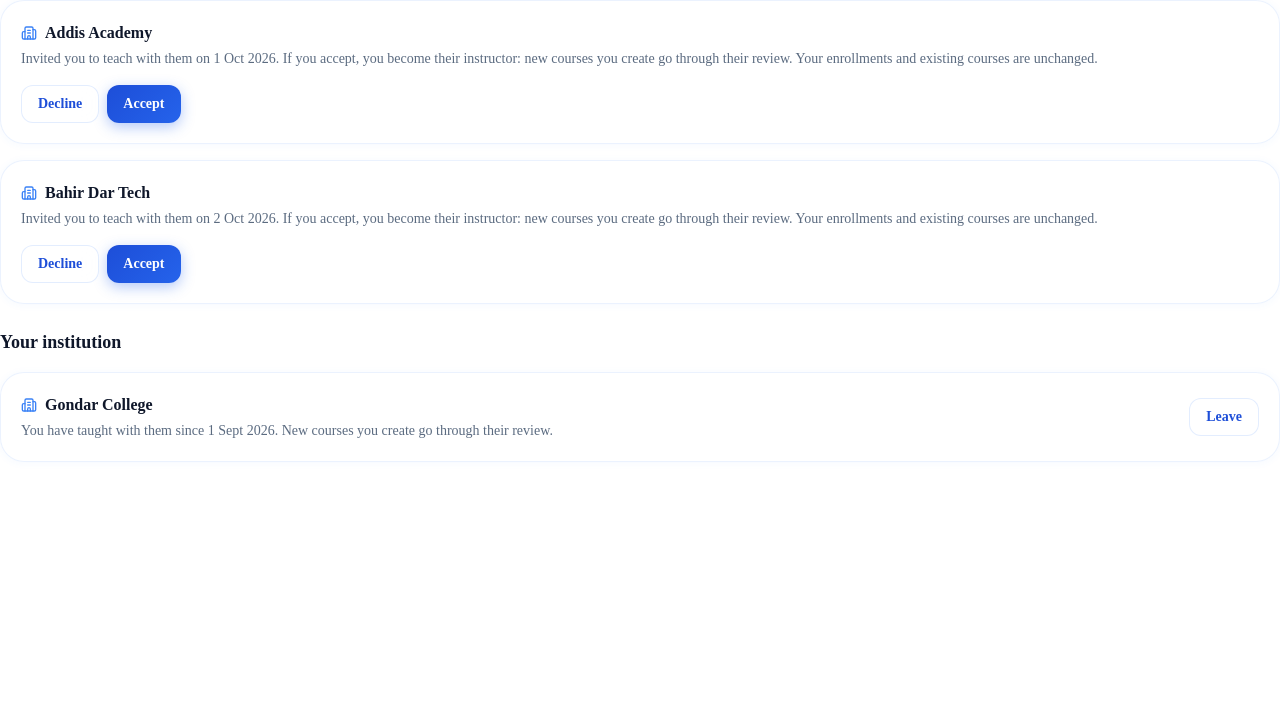
InvitesList › Leave then confirm posts, refreshes the section and says so
This screenshot has width=1280, height=720.
Click the button "Leave": (1224, 417) 1189,398 -> 1259,436
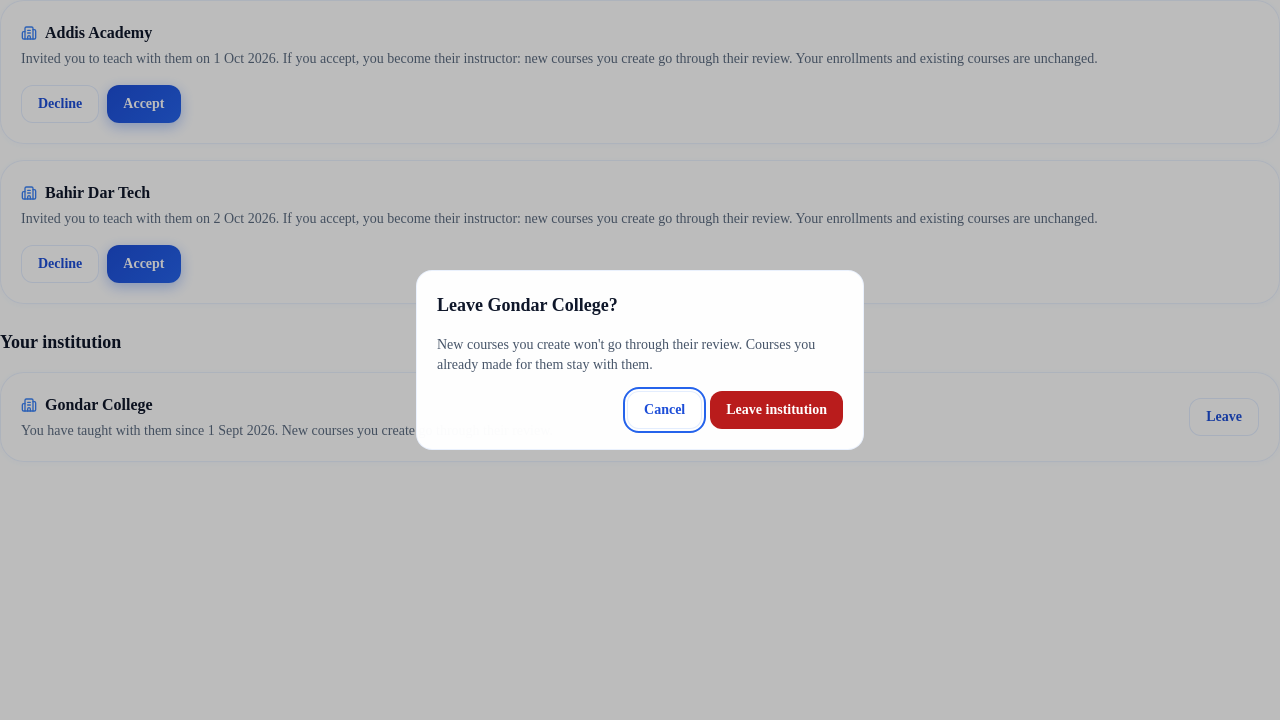
Click the button "Leave institution": (777, 410) 710,391 -> 843,429
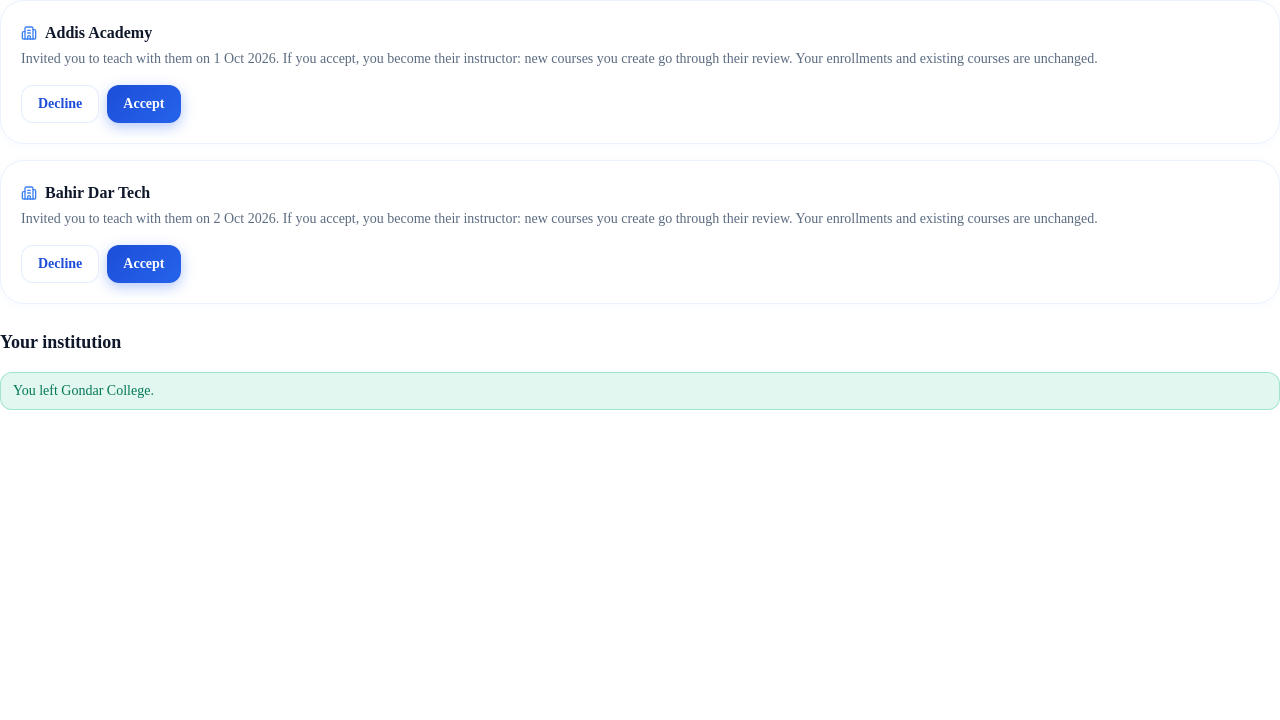
Expected: the text "You left Gondar College." is shown, 0,372 -> 1279,410
